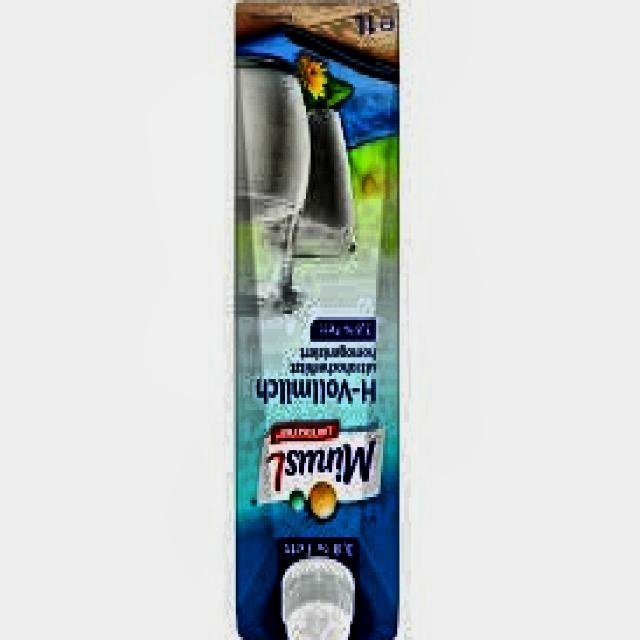cardboard: (234, 6, 402, 640)
